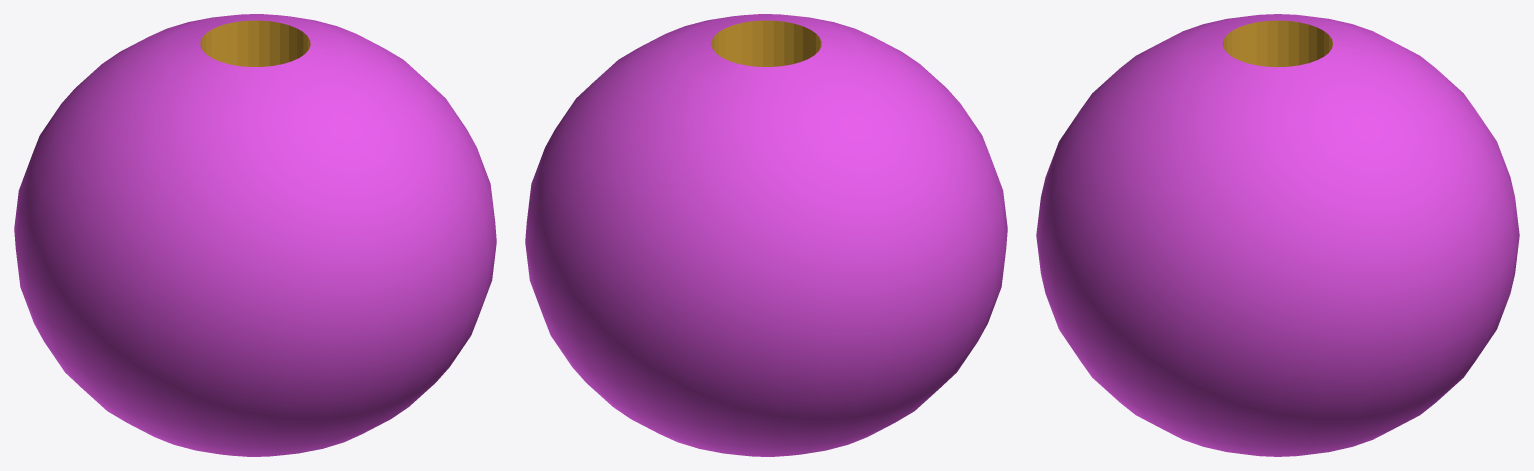
The model's file is bead.fbx.
The picture shows the model from 3 angles, left to right: view 1: azimuth 30°, elevation 25°; view 2: azimuth 150°, elevation 25°; view 3: azimuth 270°, elevation 25°; orthographic projection.
Visible parts, largest first — view 1: bead; view 2: bead; view 3: bead.
Part boxes in pixels (left/top/right/bottom): bead: left=14, top=14, right=496, bottom=456; bead: left=525, top=14, right=1007, bottom=456; bead: left=1036, top=14, right=1519, bottom=456.
Bounding box in the file's own units: 200 × 175 × 200.
